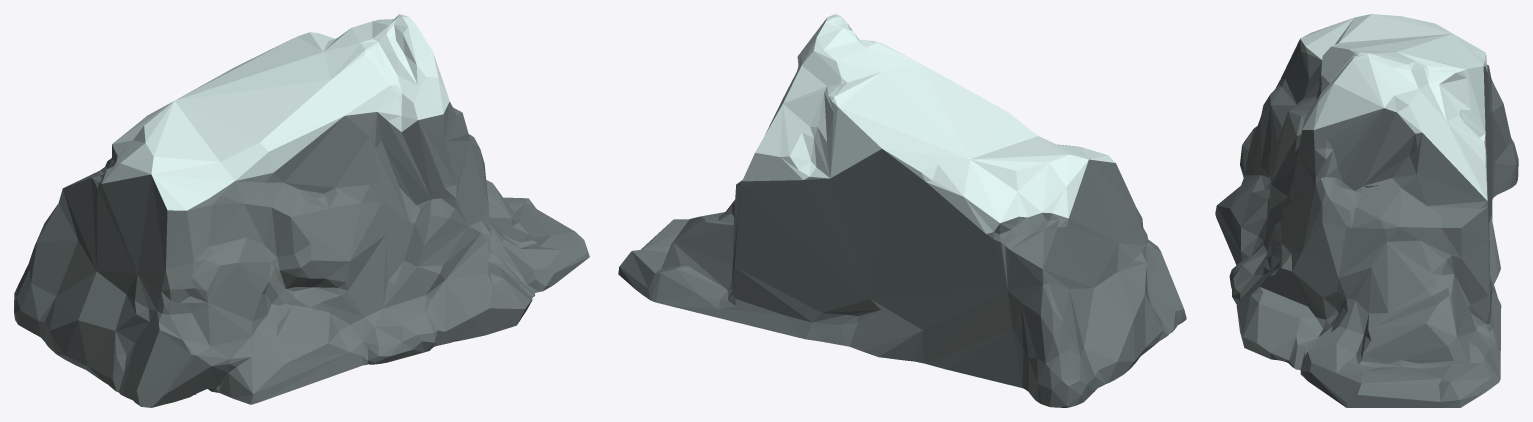
Rendered from SM_mountain_06.fbx.
3 views of the same model, side by side, from view 1: azimuth 30°, elevation 25°; view 2: azimuth 150°, elevation 25°; view 3: azimuth 270°, elevation 25° (orthographic). The views are drawn at different scales.
Visible parts, largest first — view 1: mountain_06; view 2: mountain_06; view 3: mountain_06.
Boxes of the visible parts, <box> form: mountain_06: <box>14,14,589,407</box>; mountain_06: <box>618,14,1186,407</box>; mountain_06: <box>1215,14,1518,407</box>.
Size of the model in its own units: 10371 by 5433 by 5536.
